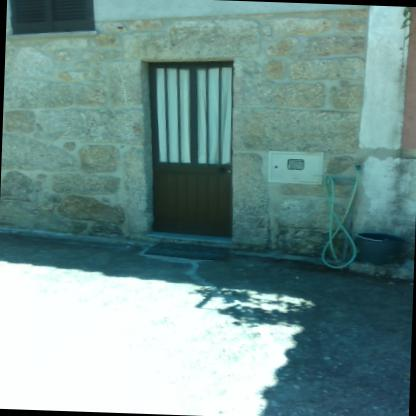closed: (124, 55, 252, 248)
